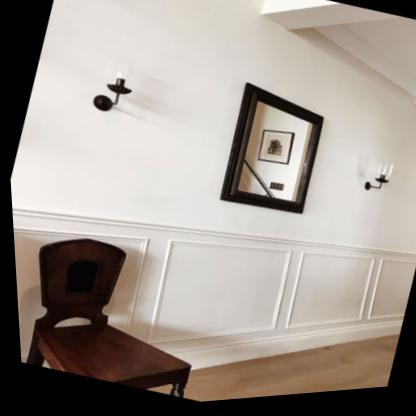Wooden floor: (97, 217, 416, 365), (178, 342, 394, 405)
